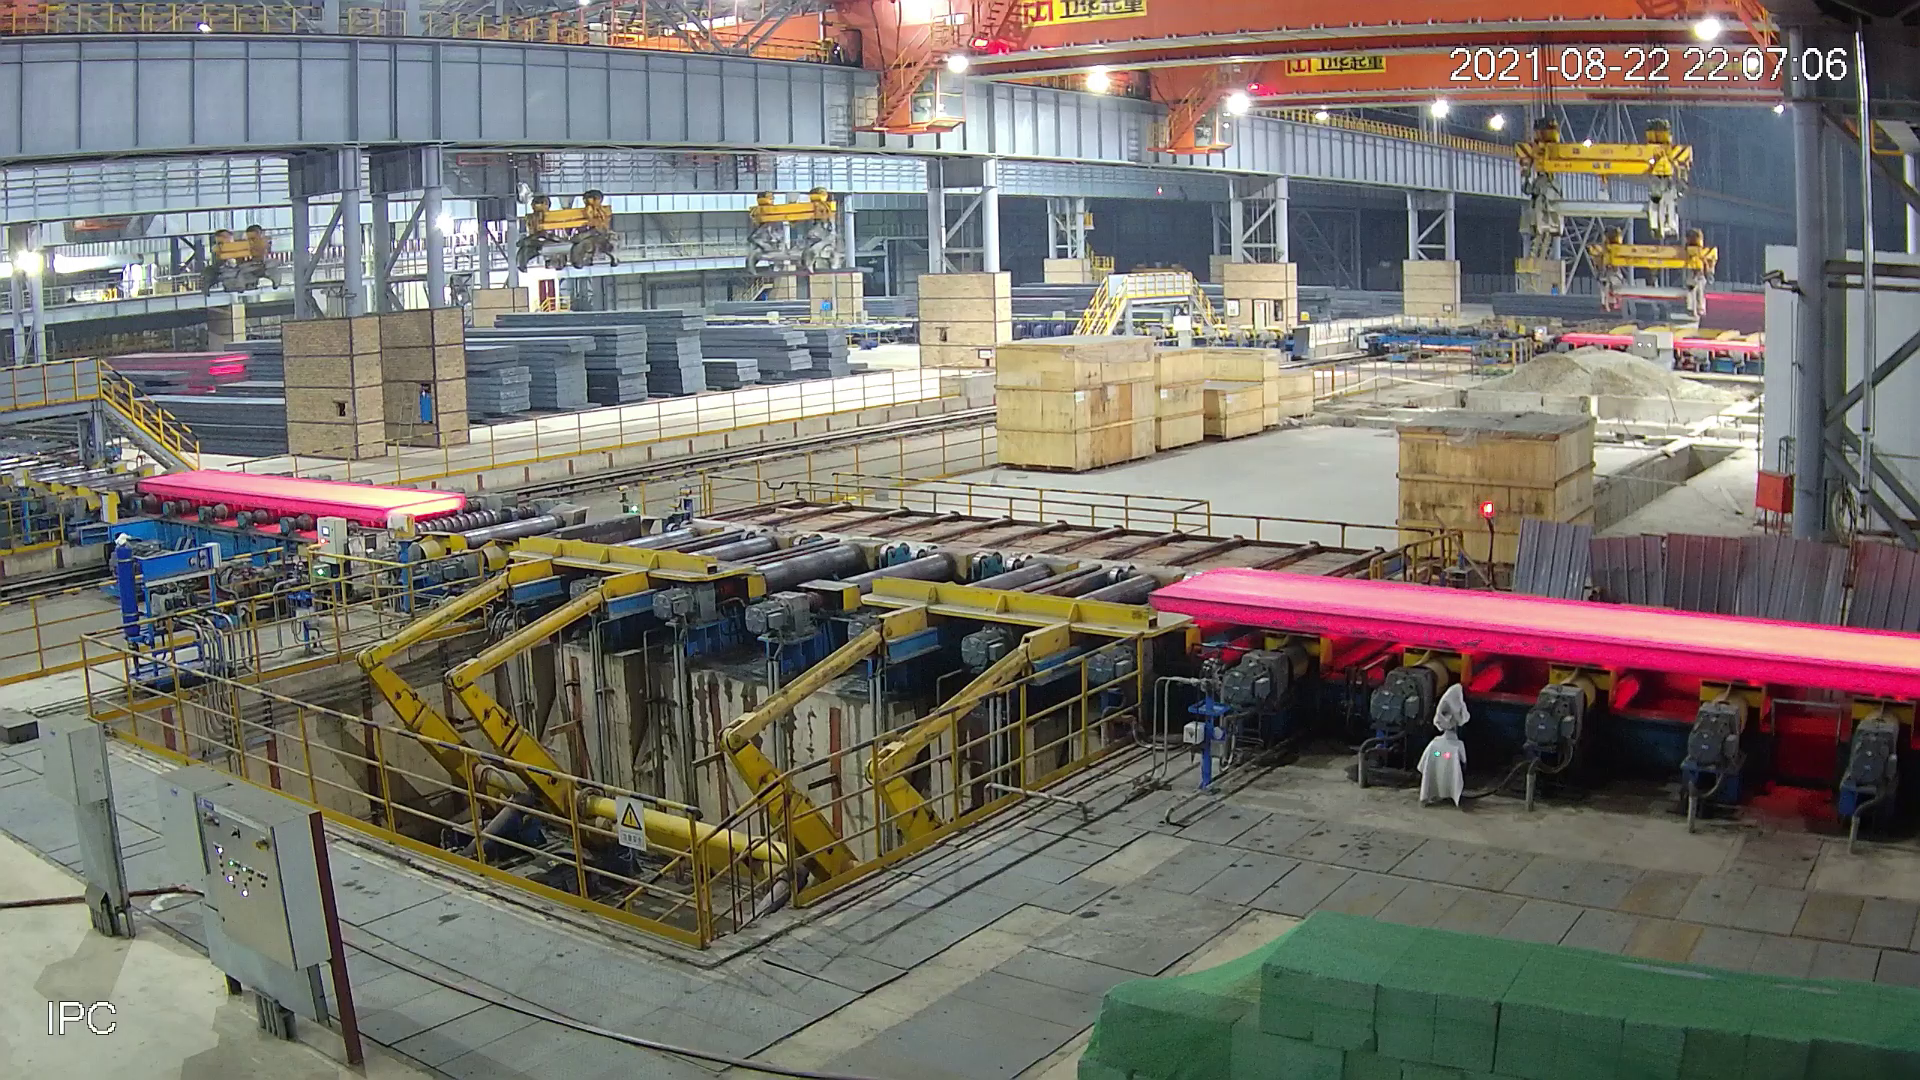slab: (1149, 567, 1920, 698), (136, 468, 464, 520)
